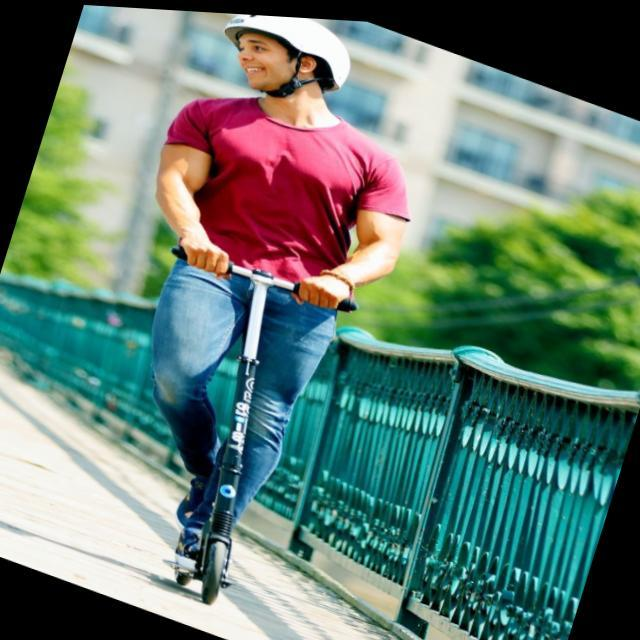Helmet: (216, 10, 354, 113)
